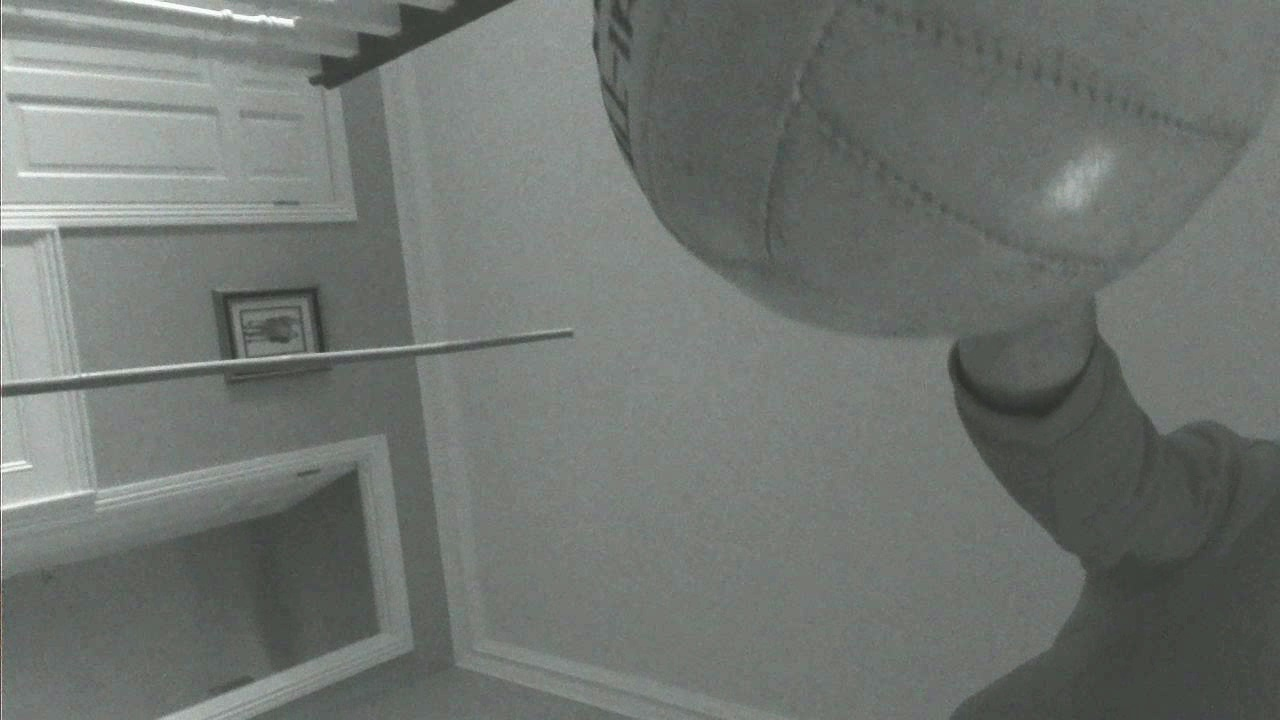Football-Spotter: (593, 0, 1279, 335)
